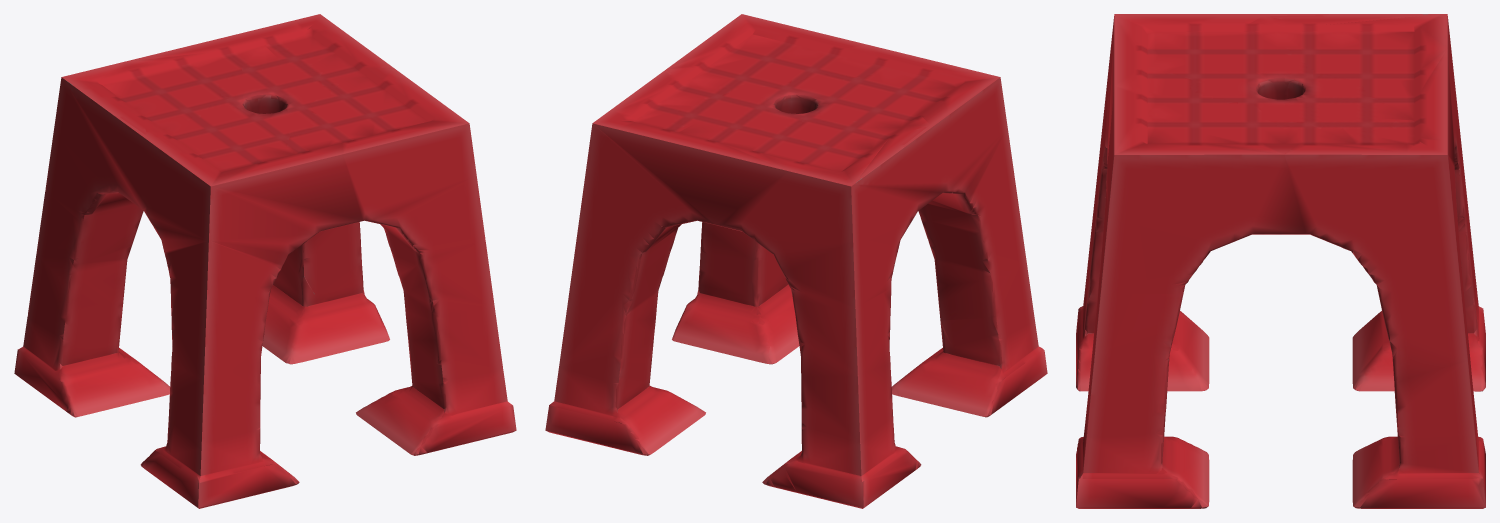
The model's file is ghe_nhua_thap_edits.glb.
3 views of the same model, side by side, from view 1: azimuth 30°, elevation 25°; view 2: azimuth 150°, elevation 25°; view 3: azimuth 270°, elevation 25° (orthographic). The views are drawn at different scales.
Parts seen in each view (by area): view 1: ghe_nhua_thap_edits; view 2: ghe_nhua_thap_edits; view 3: ghe_nhua_thap_edits.
Boxes of the visible parts, <box> form: ghe_nhua_thap_edits: <box>14,14,516,508</box>; ghe_nhua_thap_edits: <box>545,14,1047,508</box>; ghe_nhua_thap_edits: <box>1076,14,1485,508</box>.
Bounding box in the file's own units: 0.2854 × 0.2607 × 0.2854.
1 material, 1 textured.
